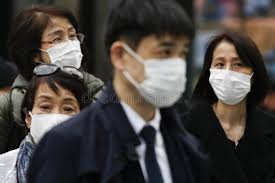mask: (113, 31, 187, 106), (30, 78, 79, 145), (209, 39, 253, 106), (33, 14, 82, 68)
